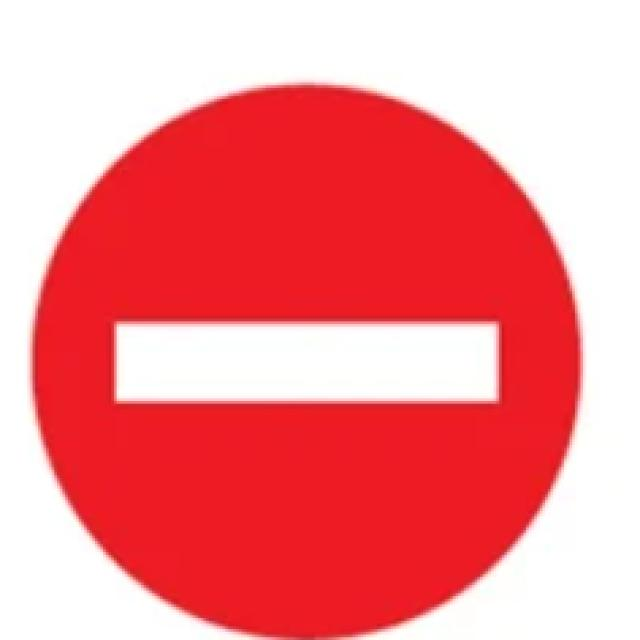Bien bao cam di nguoc chieu: (21, 58, 608, 640)
